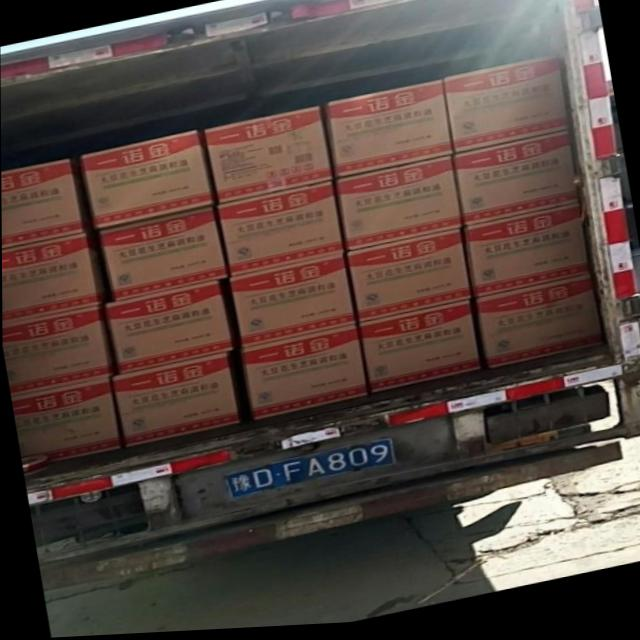box: (80, 132, 213, 231), (322, 83, 453, 183), (441, 59, 569, 159), (204, 108, 333, 206), (475, 280, 606, 374), (110, 355, 241, 449), (218, 184, 345, 280), (99, 208, 227, 303), (334, 160, 463, 254), (242, 327, 368, 423), (451, 136, 578, 231), (345, 232, 473, 326), (463, 209, 590, 303), (230, 256, 357, 350), (105, 282, 233, 375), (358, 305, 480, 397), (2, 306, 110, 396), (11, 379, 122, 462), (1, 234, 99, 325), (1, 159, 84, 248)
